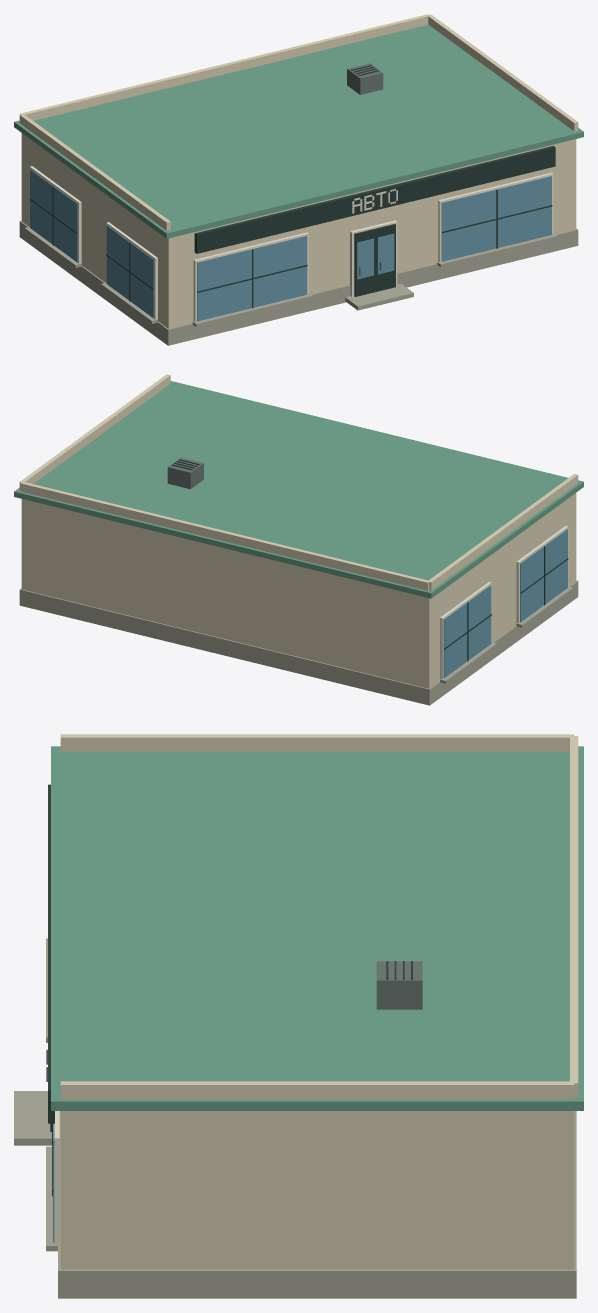
The model's file is CarDealership.obj.
The picture shows the model from 3 angles, top to bottom: view 1: azimuth 30°, elevation 25°; view 2: azimuth 150°, elevation 25°; view 3: azimuth 270°, elevation 25°; orthographic projection. The views are drawn at different scales.
Parts seen in each view (by area): view 1: CarDealership; view 2: CarDealership; view 3: CarDealership.
Part boxes in pixels (box(x1,y1,x2,y2)): CarDealership: box(14, 14, 583, 345); CarDealership: box(14, 374, 583, 705); CarDealership: box(14, 734, 583, 1298).
Bounding box in the file's own units: 16.46 × 4.97 × 11.1.
